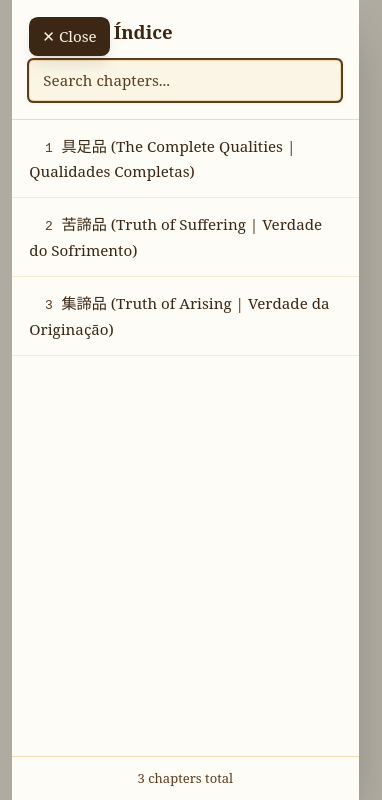
Scenario: ChapterIndex › shows empty message when search yields no results
In the field with placeholder "Search chapters...": (185, 81) [29,60,341,101], type "zzzzzz"
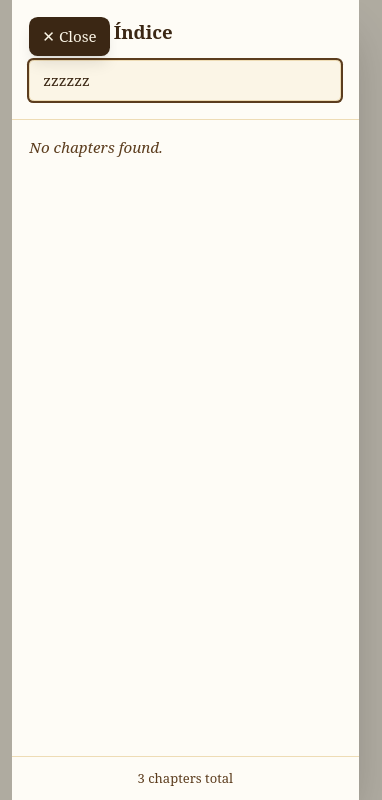
Now the text "No chapters found." is shown, box [29,137,163,157]
